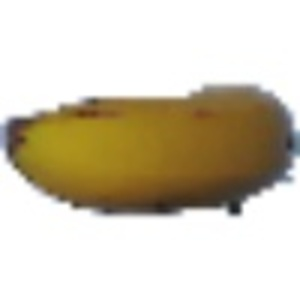banana: (1, 73, 295, 225)
